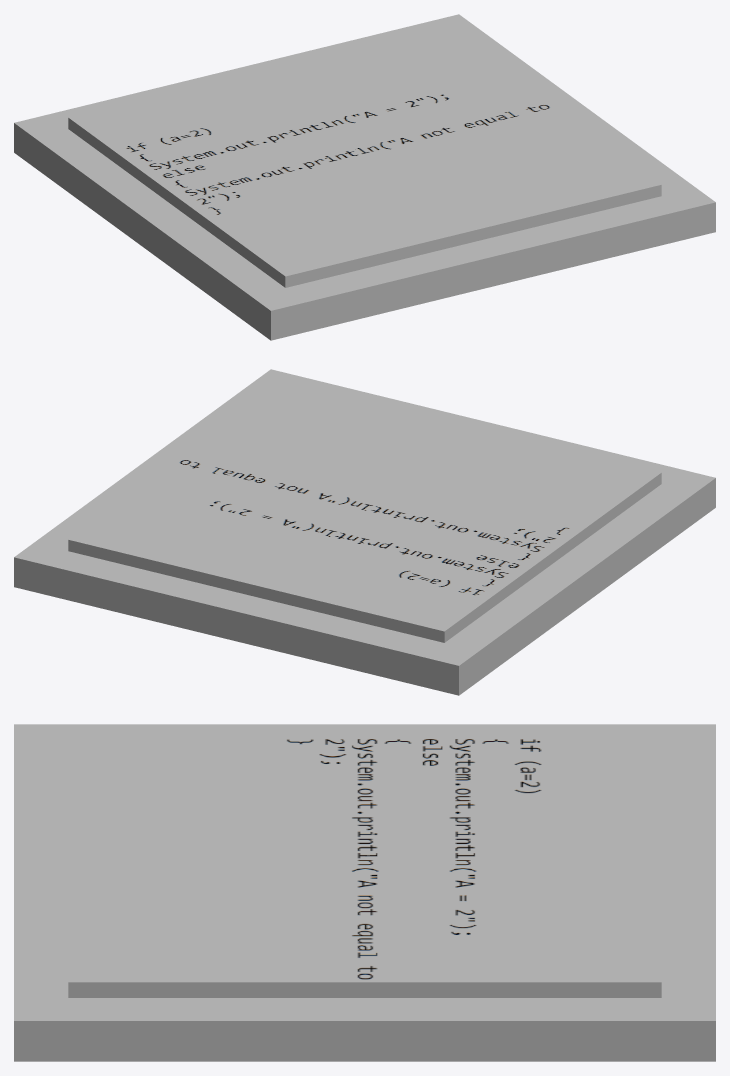
The model's file is lvl2-tile1.fbx.
The picture shows the model from 3 angles, top to bottom: view 1: azimuth 30°, elevation 25°; view 2: azimuth 150°, elevation 25°; view 3: azimuth 270°, elevation 25°; orthographic projection. The views are drawn at different scales.
Parts seen in each view (by area): view 1: Cube; view 2: Cube; view 3: Cube.
Part boxes in pixels (x1,y1,x2,y2): Cube: (14, 14, 715, 340); Cube: (14, 369, 715, 695); Cube: (14, 724, 715, 1061).
Size of the model in its own units: 200 by 17.74 by 200.
